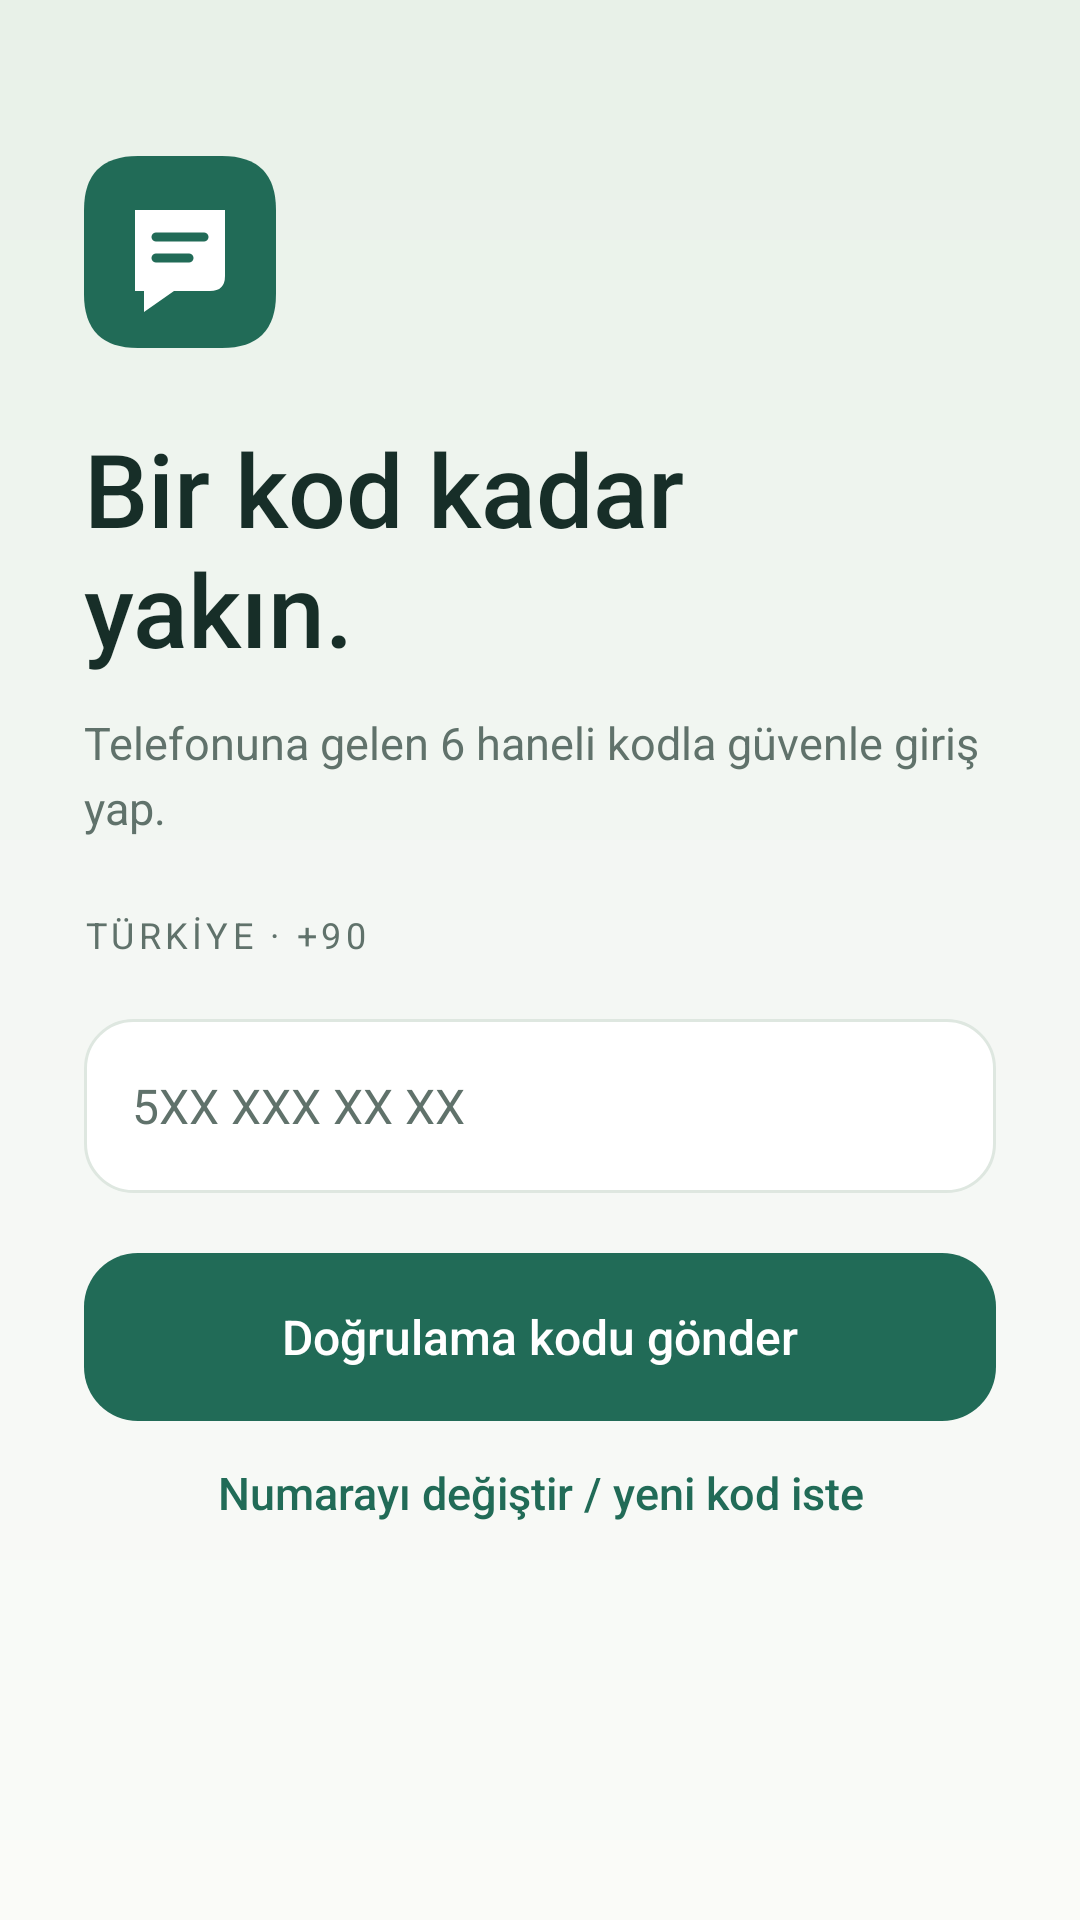

Where icons sit on this 1080 x 1920 app screen, as (x1, y1, x2, y2):
ME Chat: (84, 156, 276, 348)
